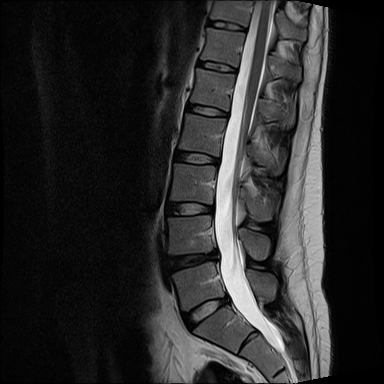Lumbar Disc Bulge (LDB): (163, 246, 225, 277)
Normal IVD: (179, 293, 236, 334), (158, 195, 217, 220), (171, 148, 223, 171), (182, 99, 231, 122), (193, 57, 240, 78), (205, 17, 250, 37)
Spinal Stenosis (SS): (206, 243, 227, 267)
